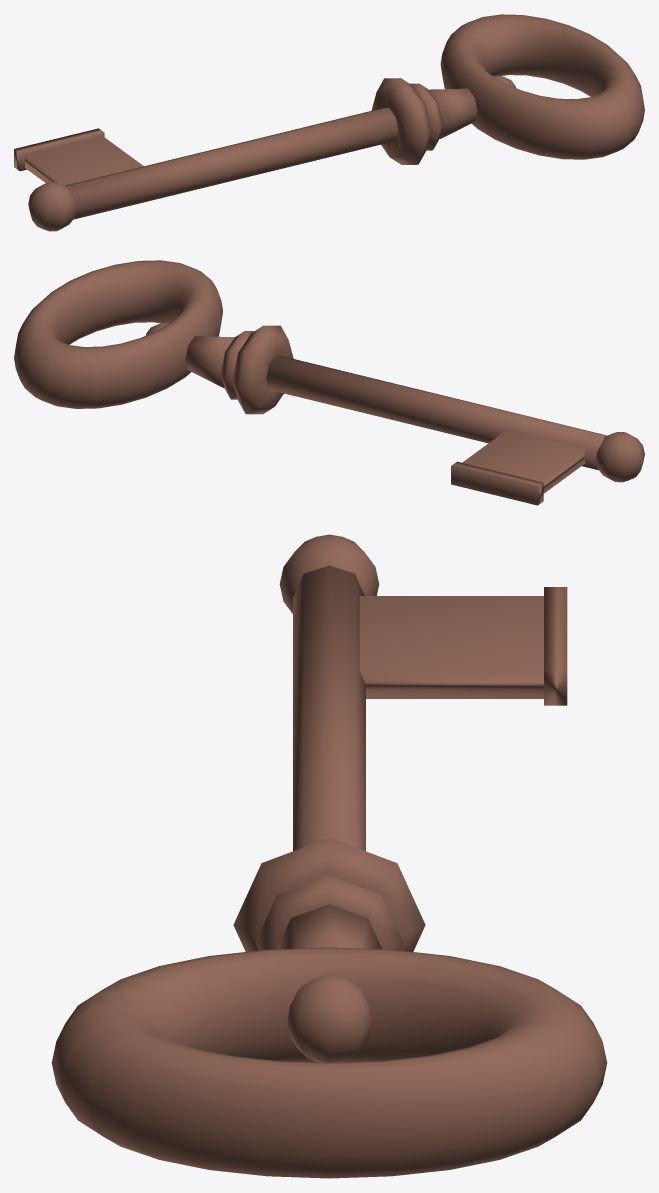
The model's file is rusty_key001.fbx.
The picture shows the model from 3 angles, top to bottom: view 1: azimuth 30°, elevation 25°; view 2: azimuth 150°, elevation 25°; view 3: azimuth 270°, elevation 25°; orthographic projection. The views are drawn at different scales.
Visible parts, largest first — view 1: Torus, Cylinder, Cube, Torus.001, Sphere.001, Cone, Cube.001, Torus.002; view 2: Torus, Cylinder, Cube, Torus.001, Cube.001, Sphere.001, Cone, Torus.002; view 3: Torus, Cylinder, Cube, Torus.001, Sphere, Torus.002, Sphere.001, Cone, Cube.001.
Part boxes in pixels (bbox=[...]): Torus: bbox=[440, 14, 644, 159]; Cylinder: bbox=[65, 108, 398, 219]; Cube: bbox=[25, 135, 143, 185]; Torus.001: bbox=[371, 78, 431, 164]; Sphere.001: bbox=[28, 182, 75, 231]; Cone: bbox=[429, 88, 477, 138]; Cube.001: bbox=[14, 128, 104, 171]; Torus.002: bbox=[410, 83, 442, 150]; Torus: bbox=[14, 260, 222, 408]; Cylinder: bbox=[266, 356, 607, 470]; Cube: bbox=[462, 430, 585, 493]; Torus.001: bbox=[232, 325, 293, 414]; Cube.001: bbox=[451, 461, 543, 505]; Sphere.001: bbox=[596, 432, 644, 482]; Cone: bbox=[185, 336, 234, 387]; Torus.002: bbox=[220, 331, 253, 399]; Torus: bbox=[51, 947, 607, 1178]; Cylinder: bbox=[293, 565, 365, 851]; Cube: bbox=[359, 596, 543, 698]; Torus.001: bbox=[233, 837, 425, 951]; Sphere: bbox=[287, 975, 371, 1062]; Torus.002: bbox=[255, 875, 403, 950]; Sphere.001: bbox=[279, 534, 379, 613]; Cone: bbox=[277, 904, 381, 949]; Cube.001: bbox=[544, 587, 567, 705].
Size of the model in its own units: 29.63 by 4.2 by 12.14.
